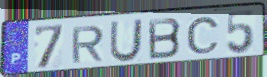5: (225, 8, 258, 56)
7: (34, 23, 66, 70)
B: (147, 16, 183, 62)
C: (185, 15, 221, 56)
R: (70, 24, 106, 65)
U: (108, 18, 145, 64)
